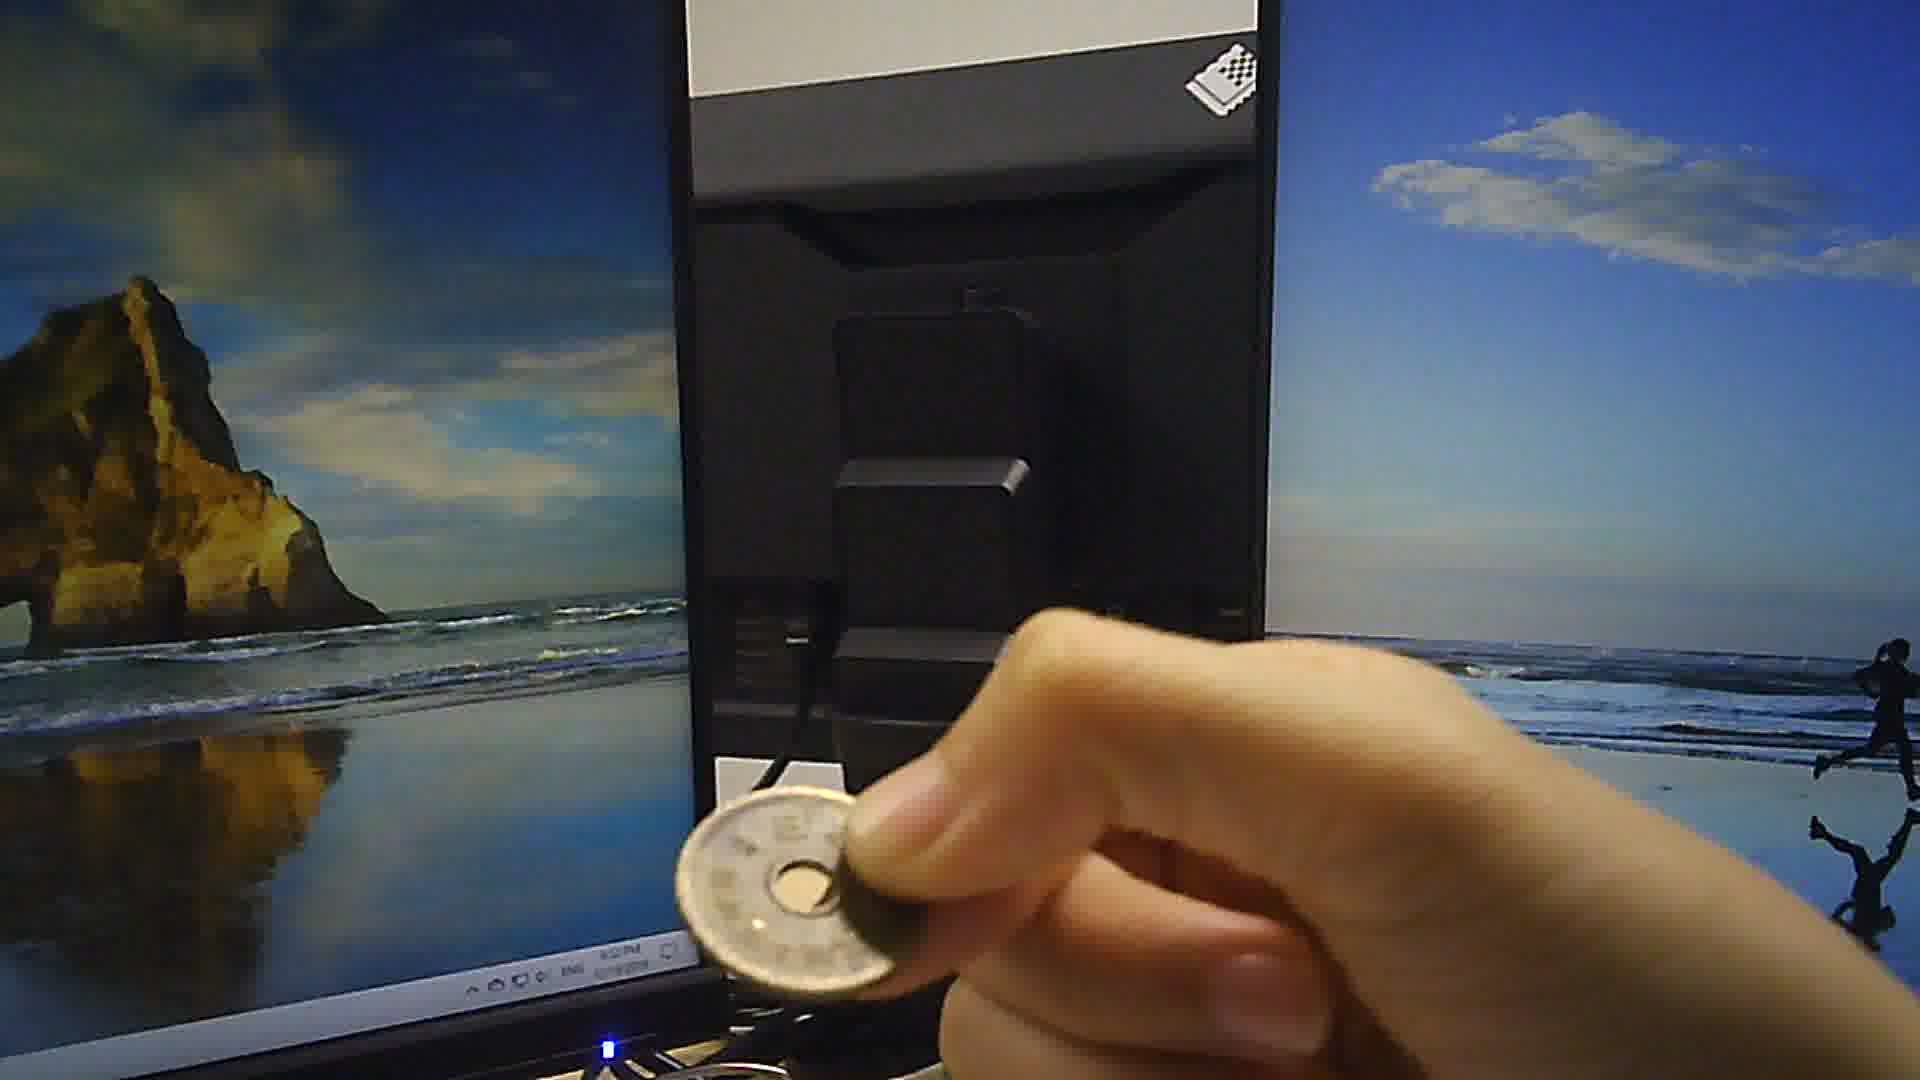5 Yen: (671, 781, 928, 984)
